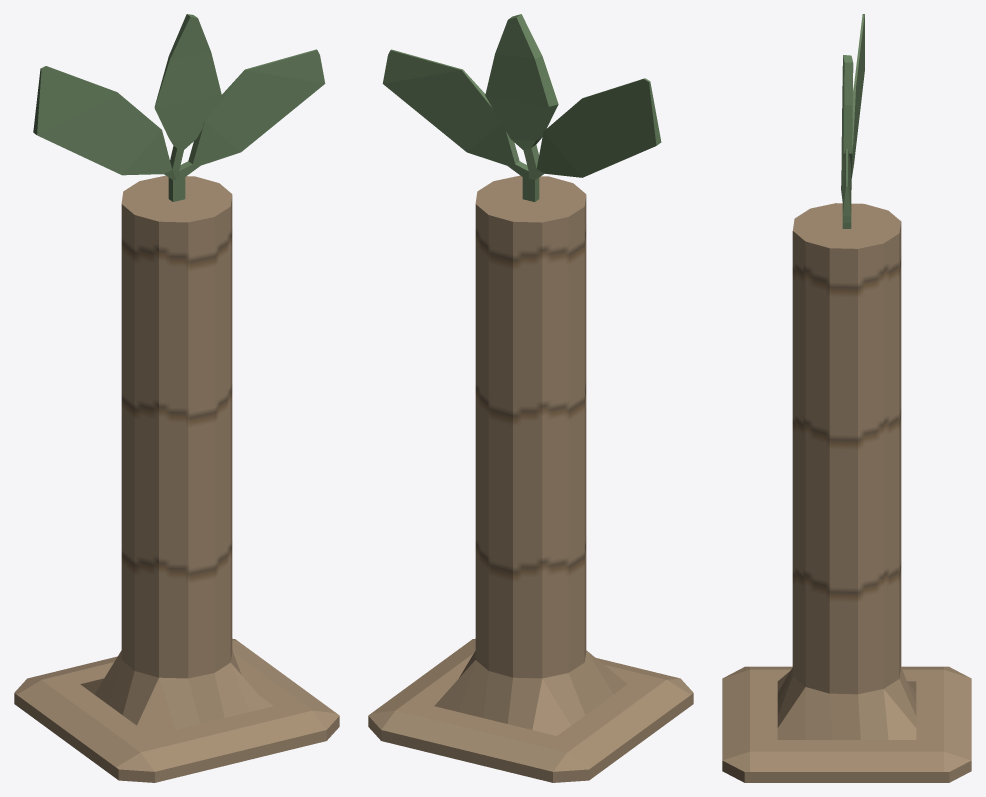
Rendered from goblin_totems.fbx.
3 views of the same model, side by side, from view 1: azimuth 30°, elevation 25°; view 2: azimuth 150°, elevation 25°; view 3: azimuth 270°, elevation 25° (orthographic). The views are drawn at different scales.
Parts seen in each view (by area): view 1: goblin_totems; view 2: goblin_totems; view 3: goblin_totems.
Boxes of the visible parts, <box> form: goblin_totems: <box>14,14,339,782</box>; goblin_totems: <box>368,14,693,782</box>; goblin_totems: <box>722,14,971,782</box>.
Size of the model in its own units: 71.86 by 170 by 56.46.
Materials: 1 (1 with a texture image).
